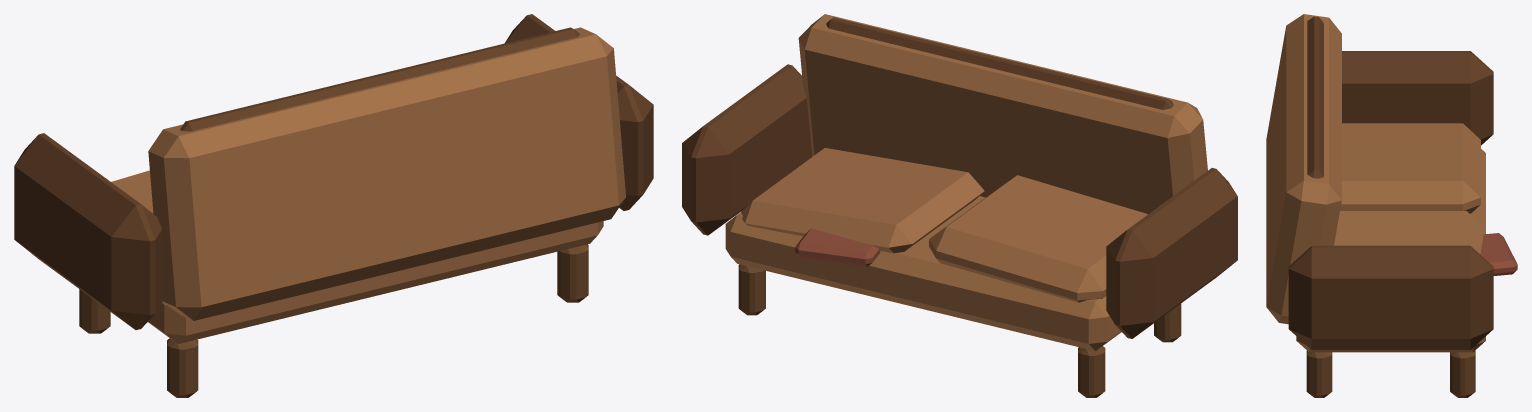
The model's file is park_sofa.glb.
3 renders of one model, left to right at view 1: azimuth 30°, elevation 25°; view 2: azimuth 150°, elevation 25°; view 3: azimuth 270°, elevation 25°, orthographic. The views are drawn at different scales.
Parts seen in each view (by area): view 1: park_sofa; view 2: park_sofa; view 3: park_sofa.
Boxes of the visible parts, box(x1,y1,x2,y2) form: park_sofa: box(14, 14, 653, 397); park_sofa: box(682, 14, 1237, 397); park_sofa: box(1266, 14, 1517, 397).
Size of the model in its own units: 2 by 0.9608 by 0.9819.
